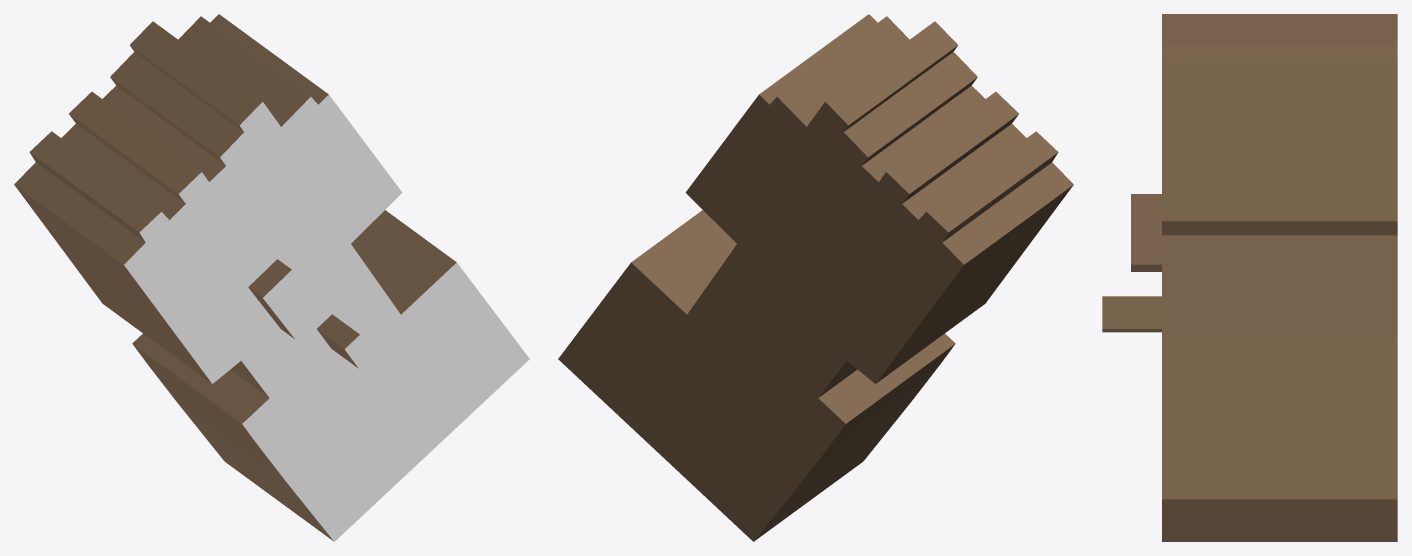
3 renders of one model, left to right at view 1: azimuth 30°, elevation 25°; view 2: azimuth 150°, elevation 25°; view 3: azimuth 270°, elevation 25°, orthographic. The views are drawn at different scales.
Visible parts, largest first — view 1: City_1565351; view 2: City_1565351; view 3: City_1565351.
Boxes of the visible parts, x1,y1,x2,y2 form: City_1565351: [14, 14, 529, 541]; City_1565351: [558, 14, 1073, 541]; City_1565351: [1102, 14, 1397, 541].
Size of the model in its own units: 2810 by 3029 by 1652.
